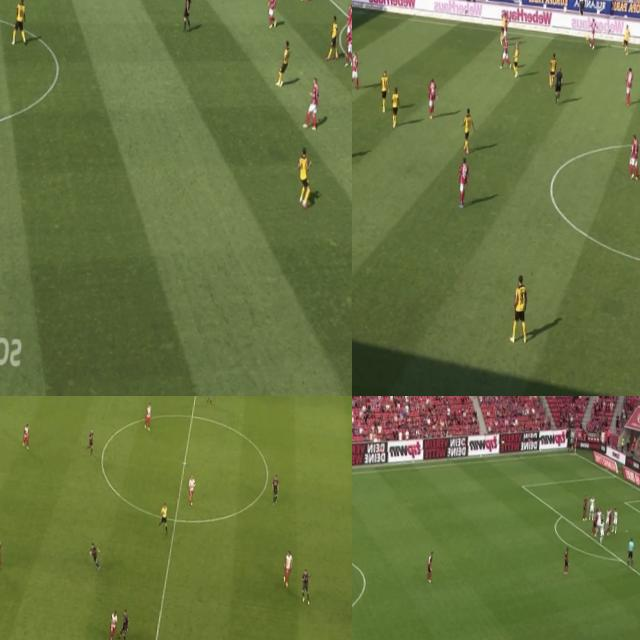ball: (584, 33, 590, 43)
player: (510, 274, 530, 344), (303, 77, 321, 132), (297, 146, 312, 204), (324, 12, 338, 62), (11, 0, 25, 47), (276, 40, 290, 86), (87, 532, 101, 578), (460, 106, 474, 151), (456, 156, 468, 208), (186, 468, 200, 512), (279, 548, 294, 589), (387, 86, 401, 129), (299, 565, 314, 605), (424, 78, 438, 120), (378, 68, 390, 115), (622, 65, 634, 106), (117, 606, 130, 640), (628, 136, 639, 176), (511, 40, 522, 76), (500, 34, 511, 69), (586, 18, 598, 50), (546, 54, 558, 86), (86, 424, 98, 456), (352, 51, 361, 90), (142, 404, 154, 433), (344, 2, 352, 45), (620, 20, 630, 52), (498, 10, 508, 40), (20, 421, 30, 451), (268, 472, 278, 501), (345, 21, 352, 62), (426, 550, 434, 584), (267, 0, 277, 27), (107, 611, 116, 640), (594, 507, 602, 536), (562, 544, 570, 572), (611, 506, 619, 534), (597, 518, 605, 542), (588, 494, 596, 518), (581, 493, 589, 517), (590, 508, 598, 532), (607, 506, 613, 532), (594, 505, 600, 529), (605, 504, 611, 526), (203, 396, 216, 405), (0, 533, 3, 568)
